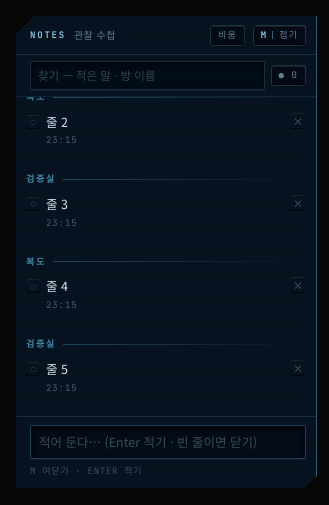
Test: 거르기 — 줄이 쌓였을 때 찾는 길 › 아무것도 안 걸리면 그렇게 말한다 — 지운 줄 알고 놀라지 않게
The width and height of the screenshot is (329, 505).
(page scrolled)
Step 1. Type "없는말" into the field named "수첩에서 찾기" → (147, 75), box [30,61,264,90]
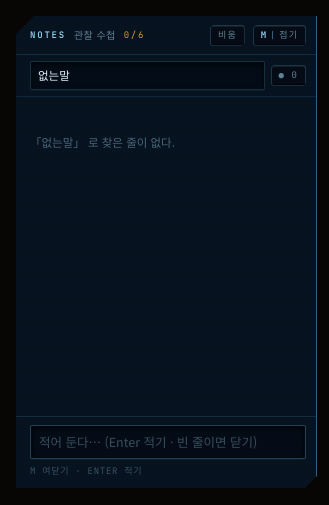
Result: the text "「없는말」 로 찾은 줄이 없다." is shown at [30,134,175,150]
